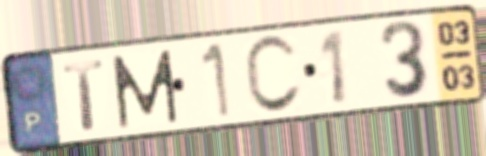1: (314, 26, 349, 109), (198, 40, 232, 121)
3: (378, 18, 433, 102)
C: (241, 32, 305, 117)
M: (109, 47, 181, 132)
T: (59, 56, 108, 133)
